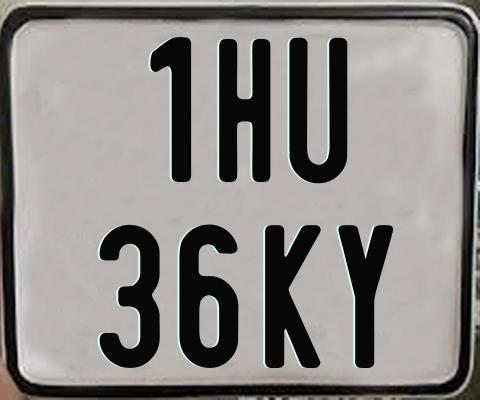1: (149, 36, 195, 182)
3: (98, 222, 163, 369)
6: (176, 224, 242, 370)
H: (217, 39, 269, 182)
K: (264, 224, 325, 368)
U: (287, 36, 351, 187)
Y: (337, 224, 396, 368)
